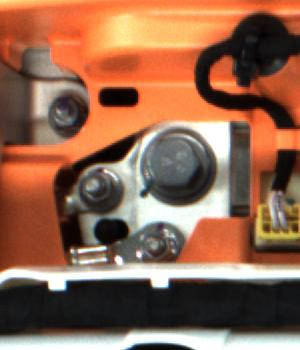nut_b: (141, 129, 225, 199)
screw_s: (131, 221, 186, 271), (80, 162, 122, 212), (50, 97, 86, 134)
